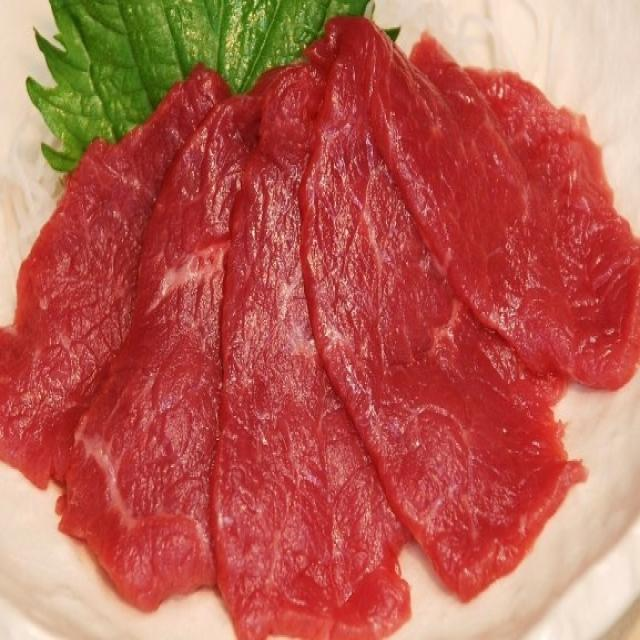刺身生食: (10, 13, 631, 621)
